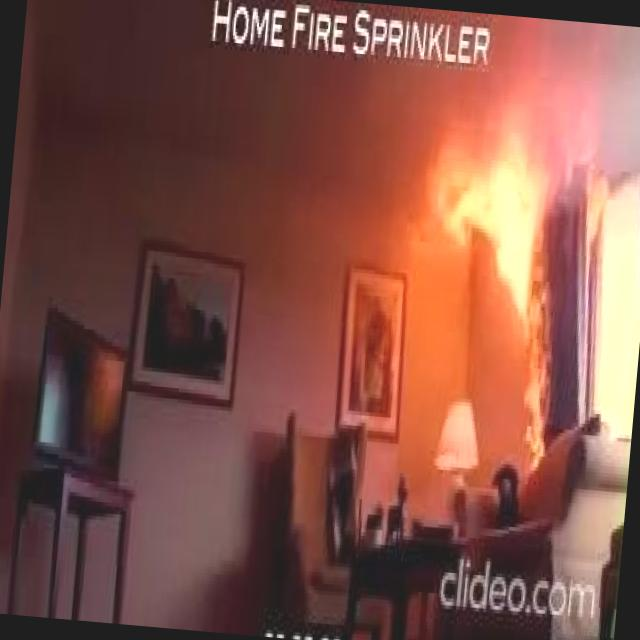fire: (414, 85, 580, 345)
